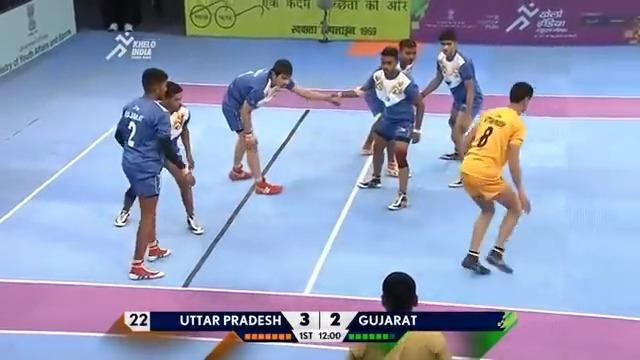Player: (221, 58, 341, 195), (112, 67, 187, 280), (334, 45, 423, 210), (418, 29, 484, 187), (149, 80, 204, 236)
Raider: (458, 81, 534, 275)
referee: (346, 271, 452, 359), (100, 0, 142, 32)
